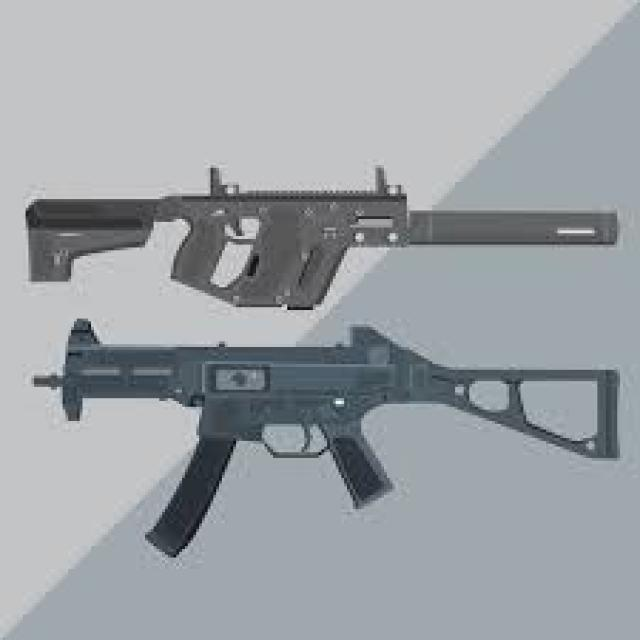Gun: (0, 321, 640, 559)
